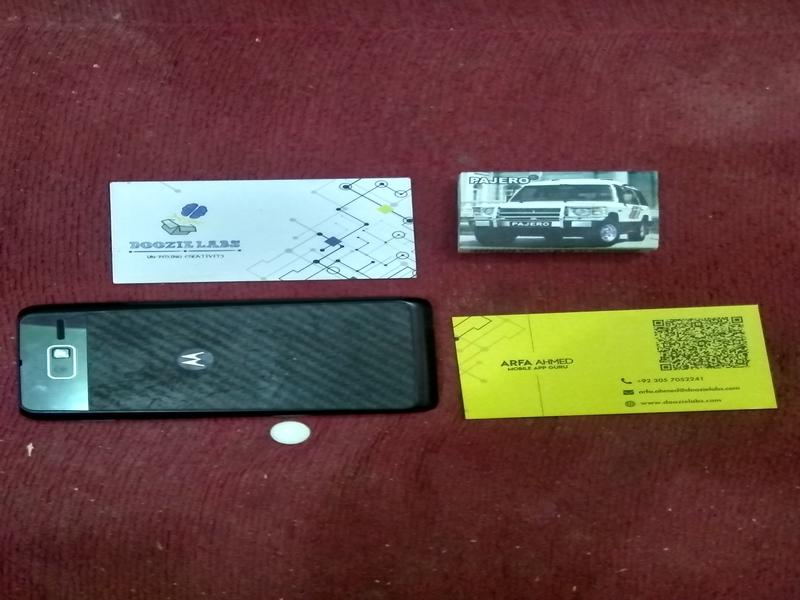back: (109, 180, 419, 285)
front: (455, 302, 784, 421)
moto: (17, 301, 445, 413)
pajero: (456, 170, 661, 250)
